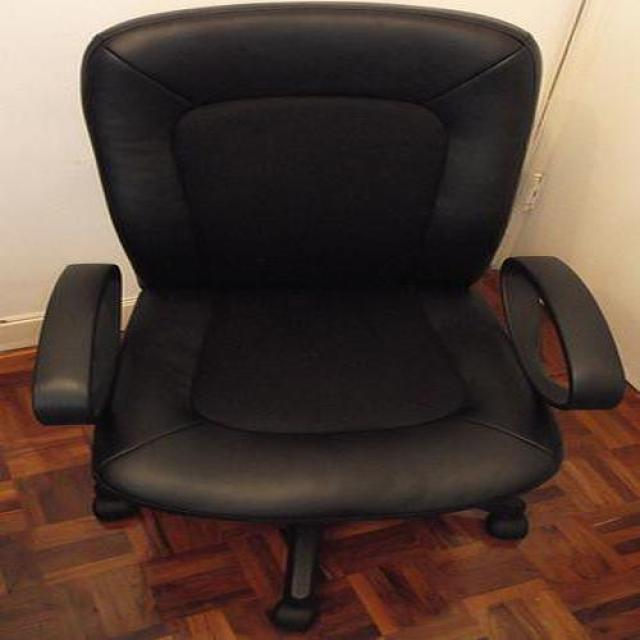swivelchair: (35, 4, 623, 634)
